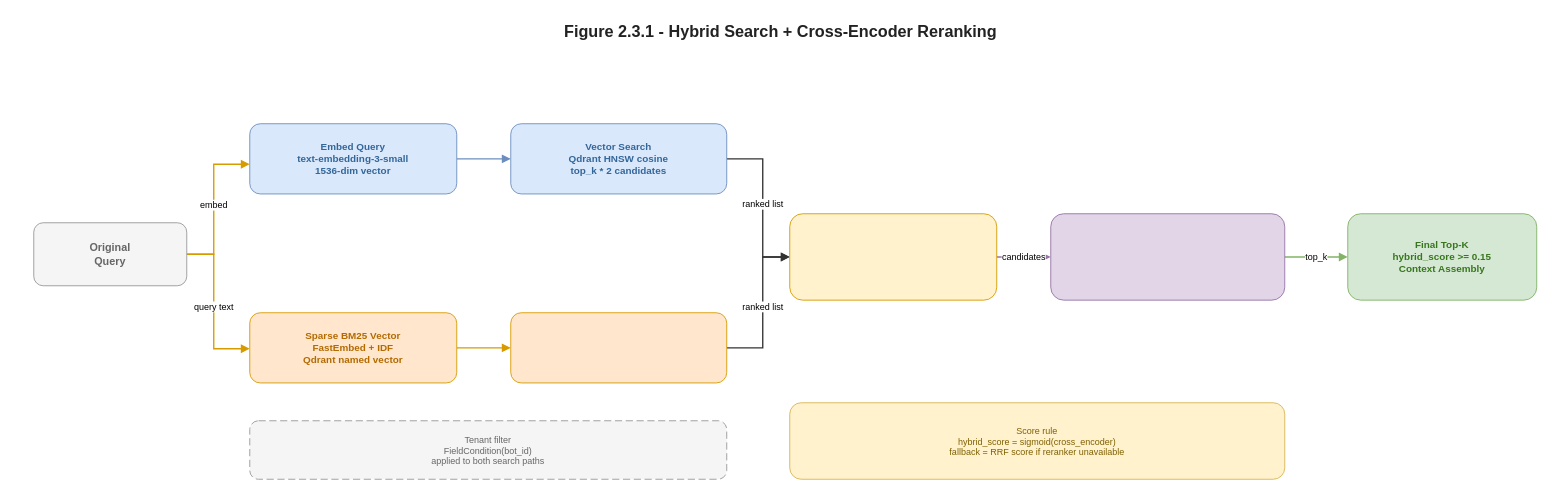
This 1561x495 diagram has some shape labels left out. Here are the shapes that lost their labels. From the top down, the centre of each, then its label:
At pixel 893 256: "RRF Merge k = 60 score = sum 1/(k+rank)".
At pixel 1167 256: "Cross-Encoder Rerank ms-marco / bge-reranker sigmoid normalize".
At pixel 618 347: "Full-Text Results keyword matches top_k * 2 candidates".
